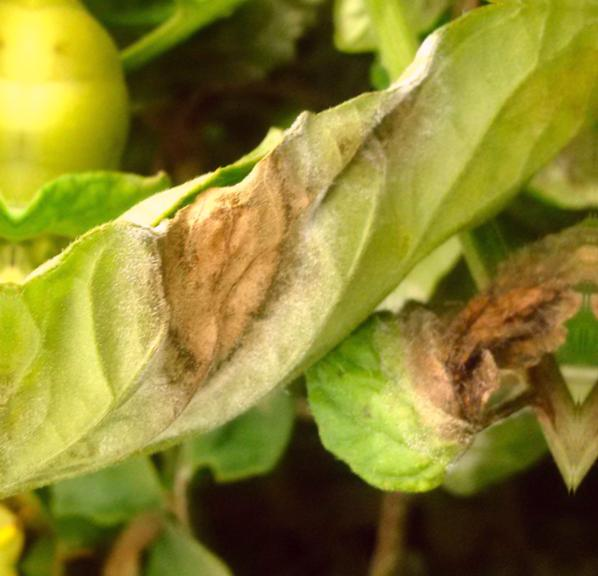Tomato leaf late blight: (0, 0, 598, 576), (297, 179, 595, 521)
